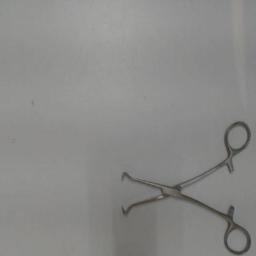Babcock Tissue Forceps: (114, 116, 254, 256)
